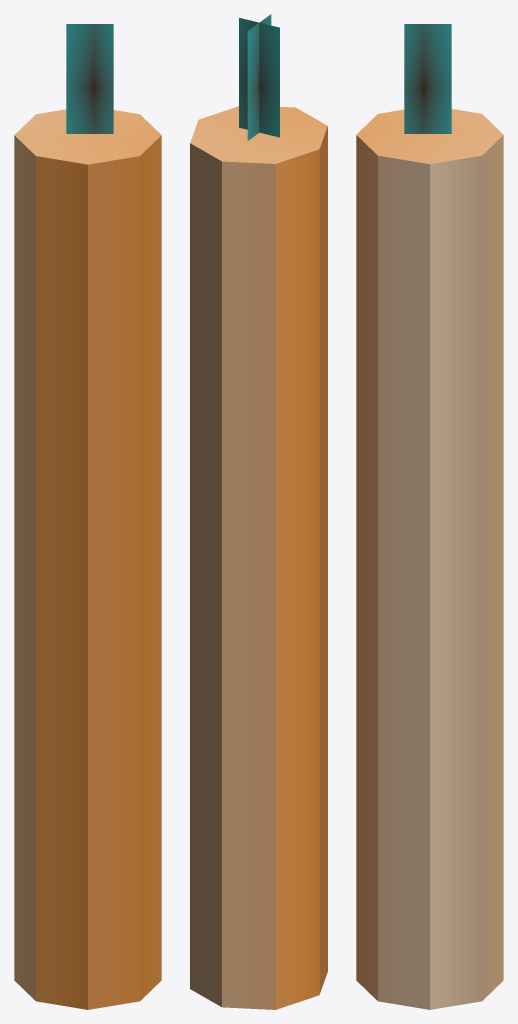
File: candle_336x01.obj
3 renders of one model, left to right at view 1: azimuth 90°, elevation 25°; view 2: azimuth 150°, elevation 25°; view 3: azimuth 270°, elevation 25°, orthographic.
Parts seen in each view (by area): view 1: candle_336x1; view 2: candle_336x1; view 3: candle_336x1.
Boxes of the visible parts, <box> form: candle_336x1: <box>14,24,161,1009</box>; candle_336x1: <box>190,14,327,1009</box>; candle_336x1: <box>356,24,503,1009</box>.
Size of the model in its own units: 0.1409 by 1.06 by 0.1487.
